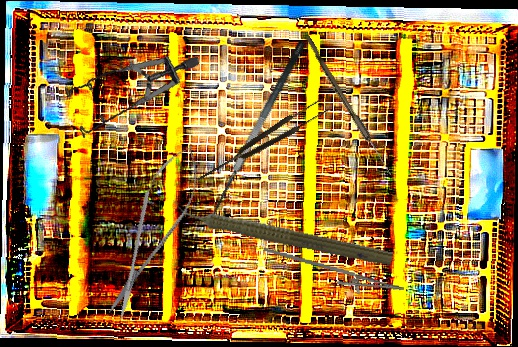Handpiece: (168, 195, 396, 271)
Micro Scissor: (93, 136, 213, 327)
Needle Holder: (259, 246, 407, 303)
Spatula Surgical: (199, 38, 323, 230)
Speculum: (57, 35, 200, 156)
Surgical Spoon: (302, 35, 395, 177)
Tissue Forceps: (192, 97, 330, 187)
